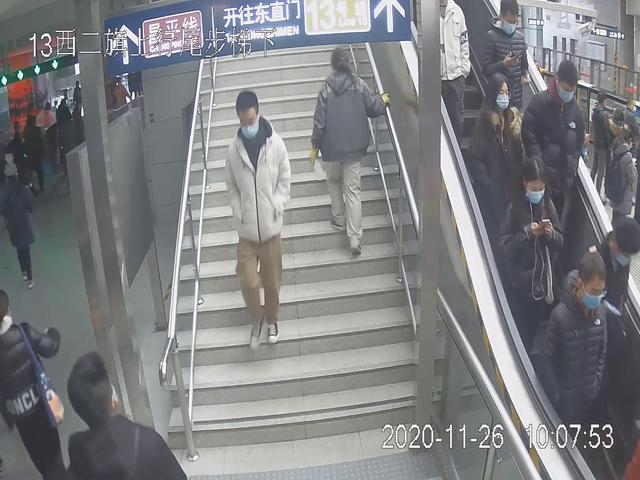person: (300, 45, 396, 266), (221, 85, 293, 354), (531, 245, 613, 467), (496, 152, 567, 350), (521, 56, 590, 247), (469, 71, 523, 259)
